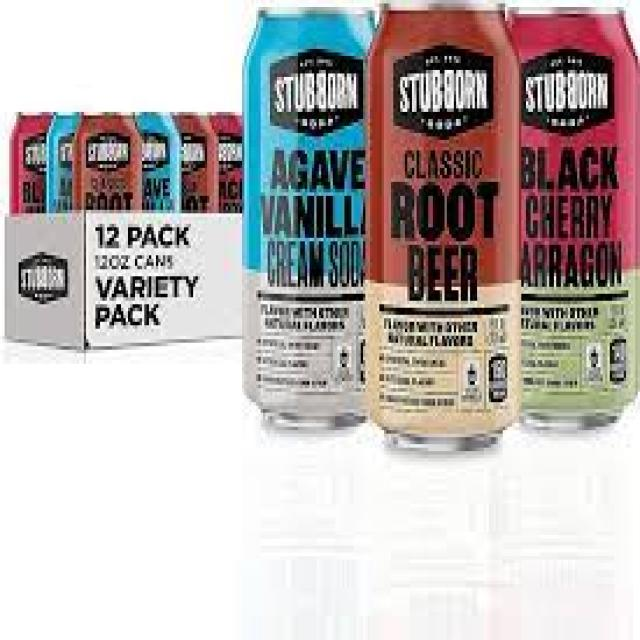Cans: (365, 4, 526, 458), (233, 4, 372, 434), (505, 7, 640, 430)
